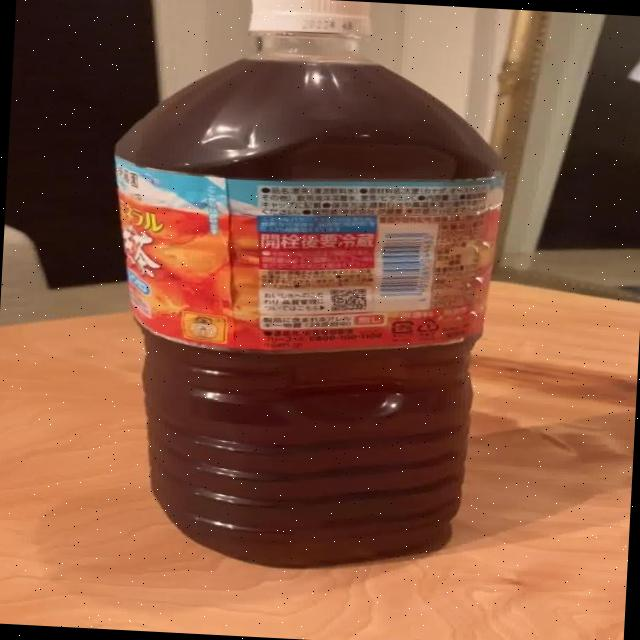bottle: (92, 0, 521, 582)
cap: (237, 0, 384, 46)
label: (104, 156, 506, 365)
